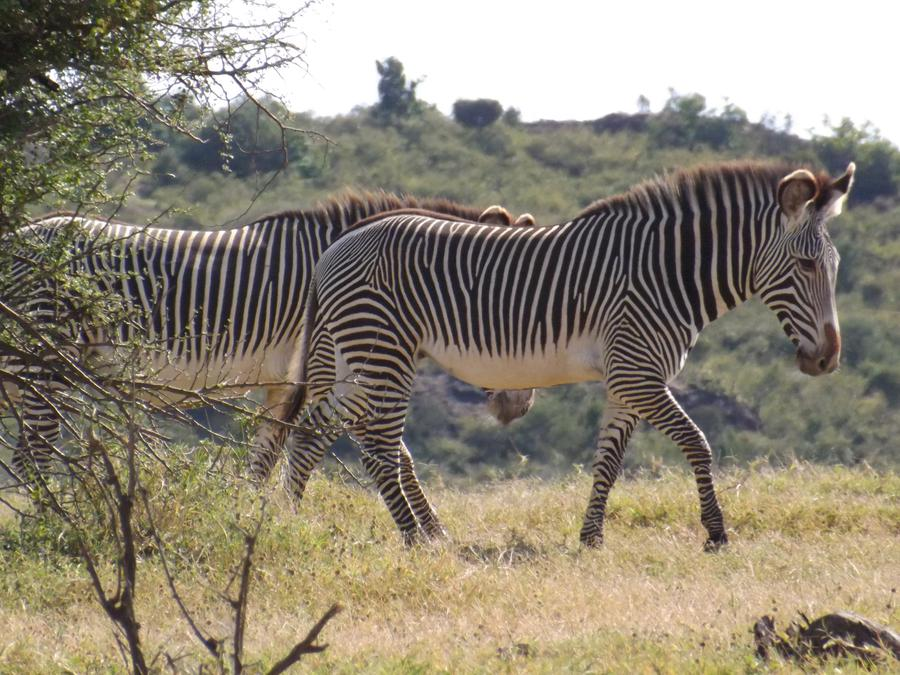zebra_grevys: (303, 215, 684, 379)
